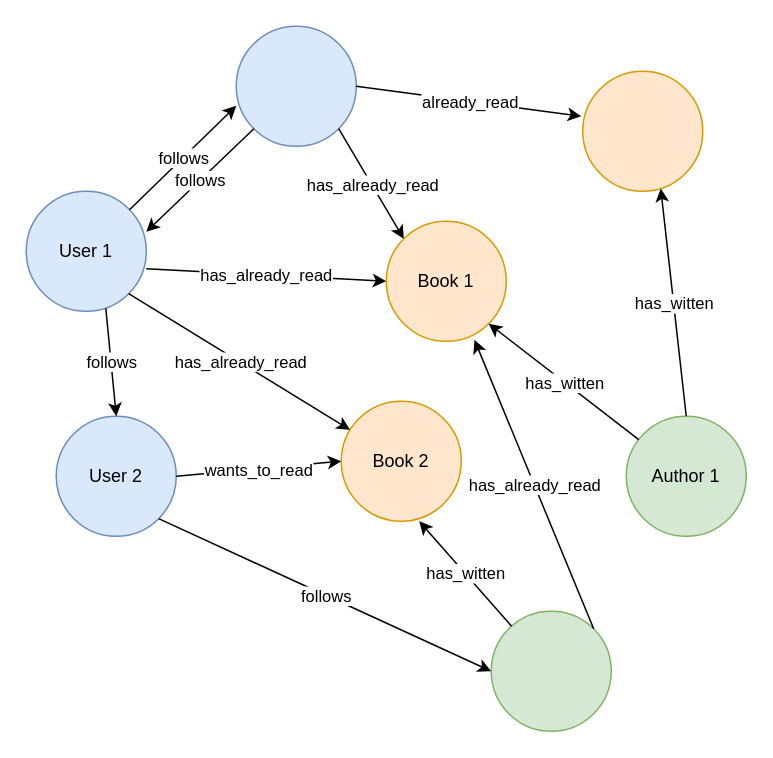
Some shapes in this 773 by 758 pixel diagram are drawn without their labels. Each missing label, with the centre of its shape:
"Author 2" goes at point 550,670.
"Book 3" goes at point 642,130.
"User 3" goes at point 295,85.
